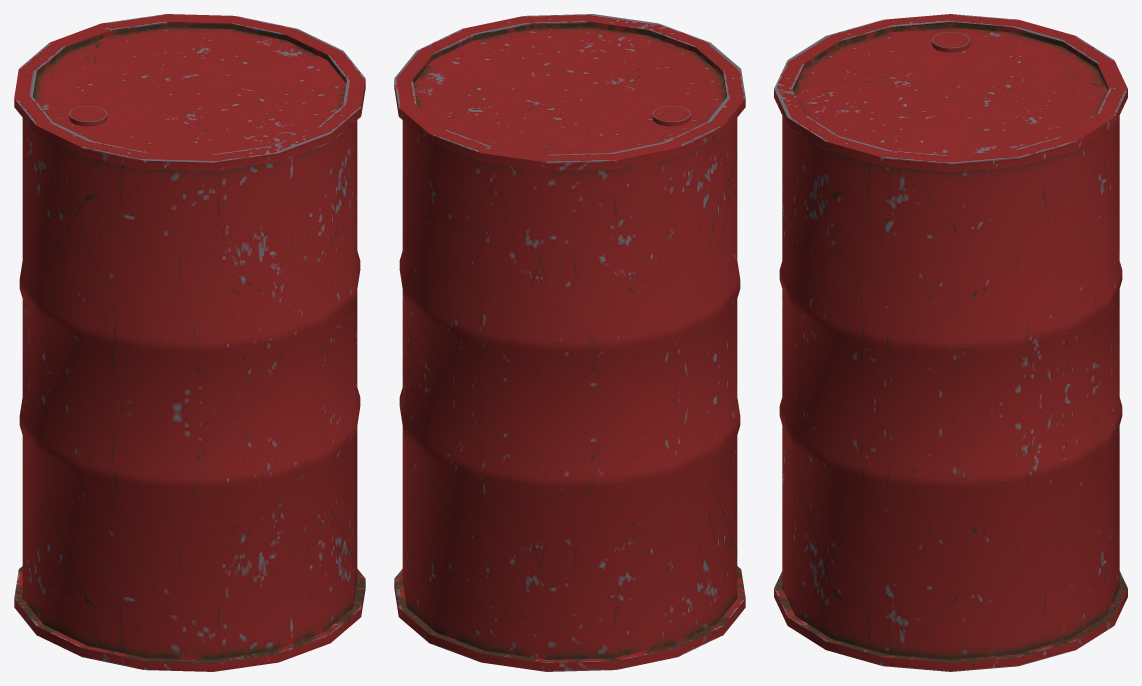
The model's file is Barrel.fbx.
3 views of the same model, side by side, from view 1: azimuth 30°, elevation 25°; view 2: azimuth 150°, elevation 25°; view 3: azimuth 270°, elevation 25° (orthographic).
Visible parts, largest first — view 1: Cylinder, Cylinder.001; view 2: Cylinder, Cylinder.001; view 3: Cylinder, Cylinder.001.
Part boxes in pixels (<box>): Cylinder: <box>14,14,365,671</box>; Cylinder.001: <box>69,106,107,126</box>; Cylinder: <box>394,14,745,671</box>; Cylinder.001: <box>652,106,690,126</box>; Cylinder: <box>774,14,1127,671</box>; Cylinder.001: <box>931,32,970,52</box>.
Bounding box in the file's own units: 78.54 × 125 × 78.54.
Materials: 1 (1 with a texture image).
